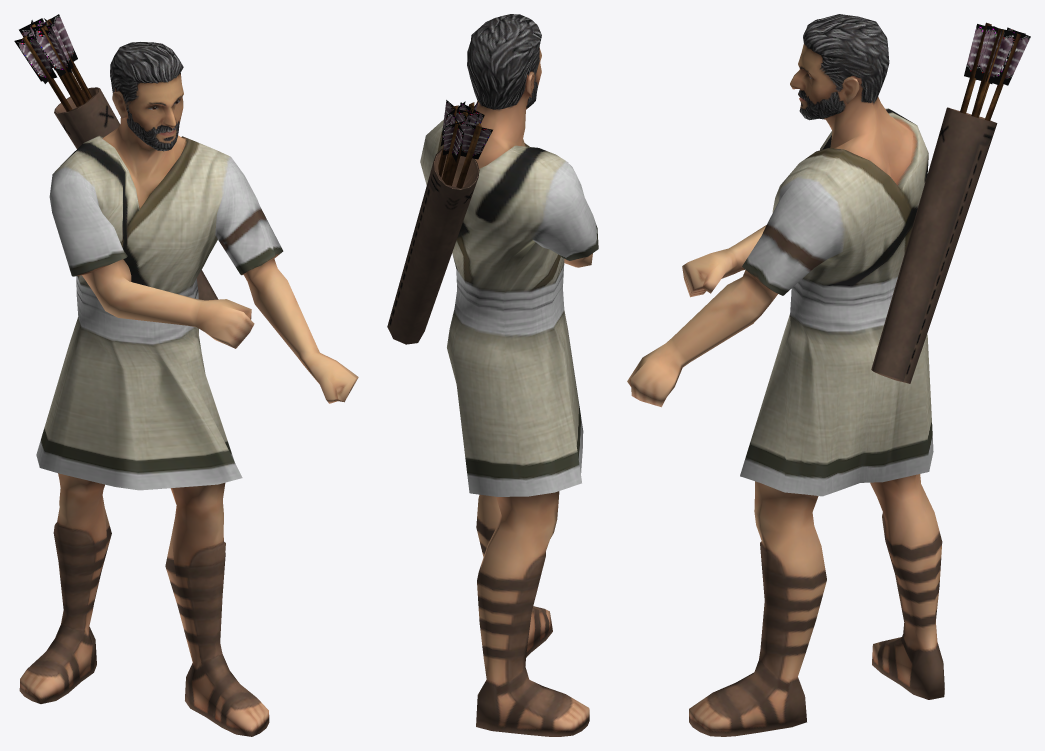
The model's file is body-base.glb.
The picture shows the model from 3 angles, left to right: view 1: azimuth 30°, elevation 25°; view 2: azimuth 150°, elevation 25°; view 3: azimuth 270°, elevation 25°; orthographic projection. The views are drawn at different scales.
Size of the model in its own units: 0.7276 by 2.08 by 1.11.
Materials: 1 (1 with a texture image).
